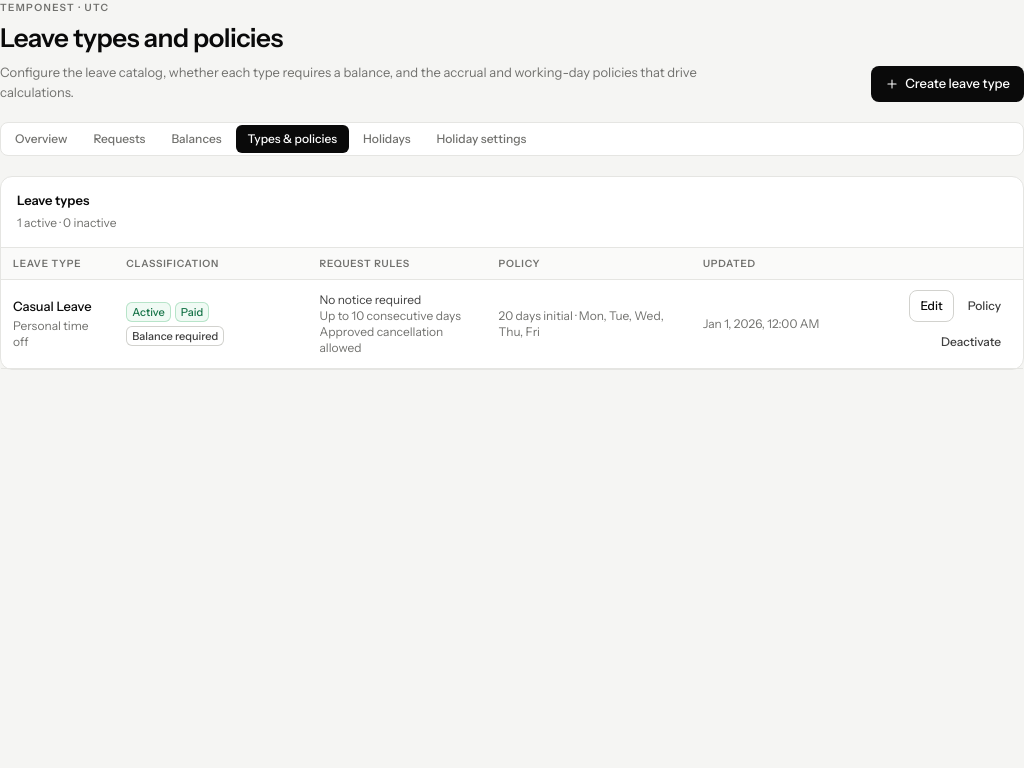
it: LeaveTypesView › deactivates a leave type after confirmation
Expected: the table is shown, x1=1 y1=248 x2=1023 y2=368
What coordinates should you click on to do the following:
click the button "Deactivate"
I would click on:
 (971, 342)
Its box is x1=931 y1=326 x2=1011 y2=358.
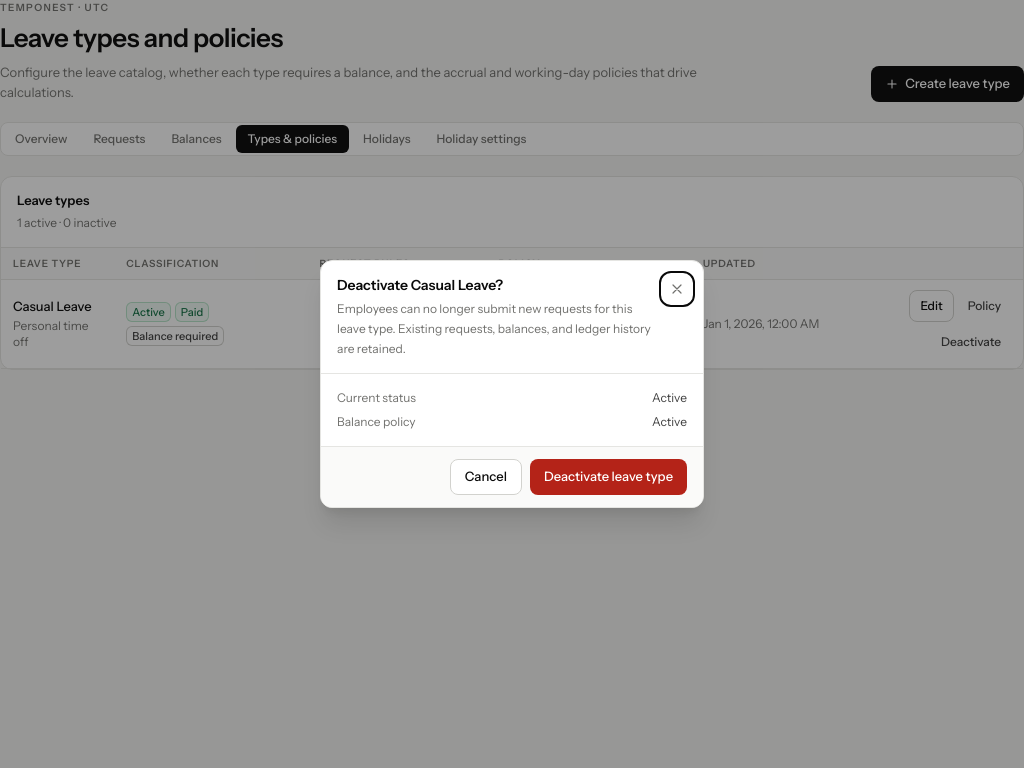
Expected: the heading "Deactivate Casual Leave?" is shown, x1=337 y1=276 x2=503 y2=294
What coordinates should you click on to do the following:
click the button "Deactivate leave type"
I would click on:
 (608, 477)
Its box is x1=530 y1=459 x2=687 y2=495.
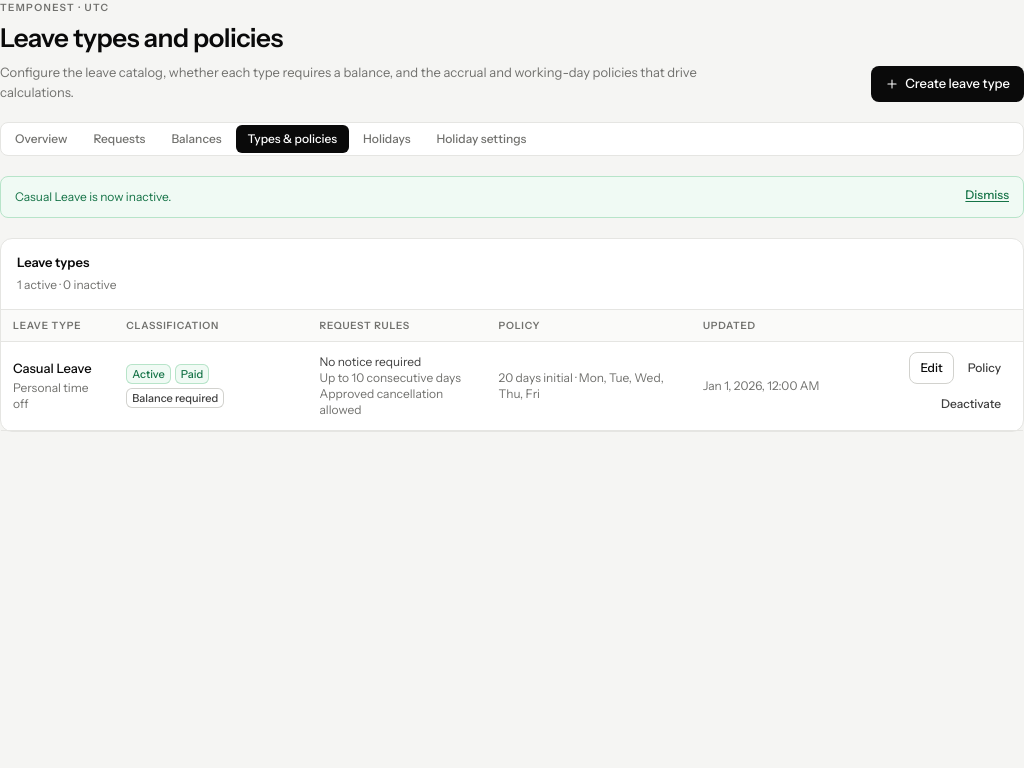
Expected: the text "Casual Leave is now inactive." is shown, x1=15 y1=187 x2=171 y2=207
